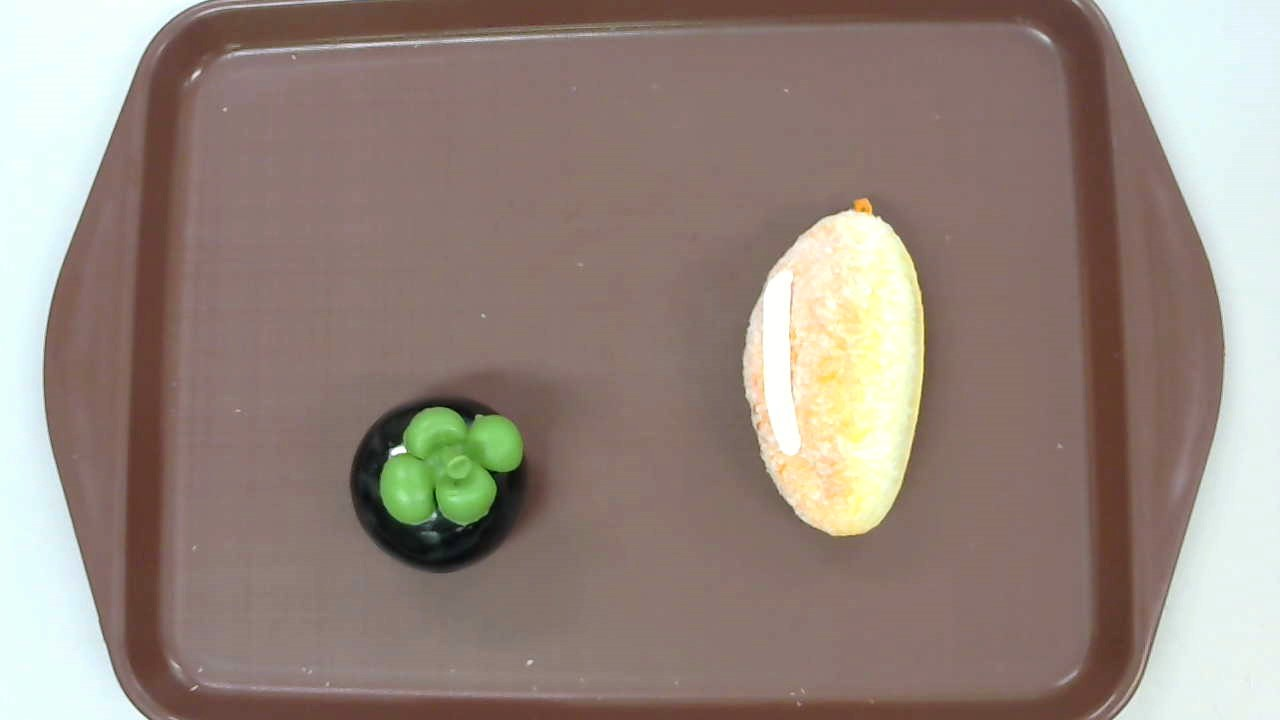coconut: (739, 198, 924, 537)
mangosteen: (349, 396, 529, 573)
